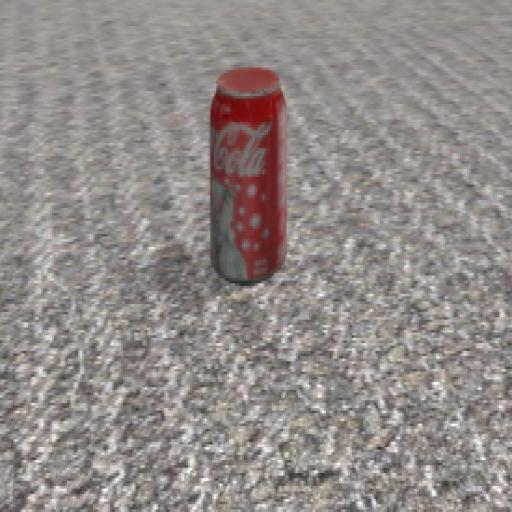COCA: (166, 40, 342, 332)
